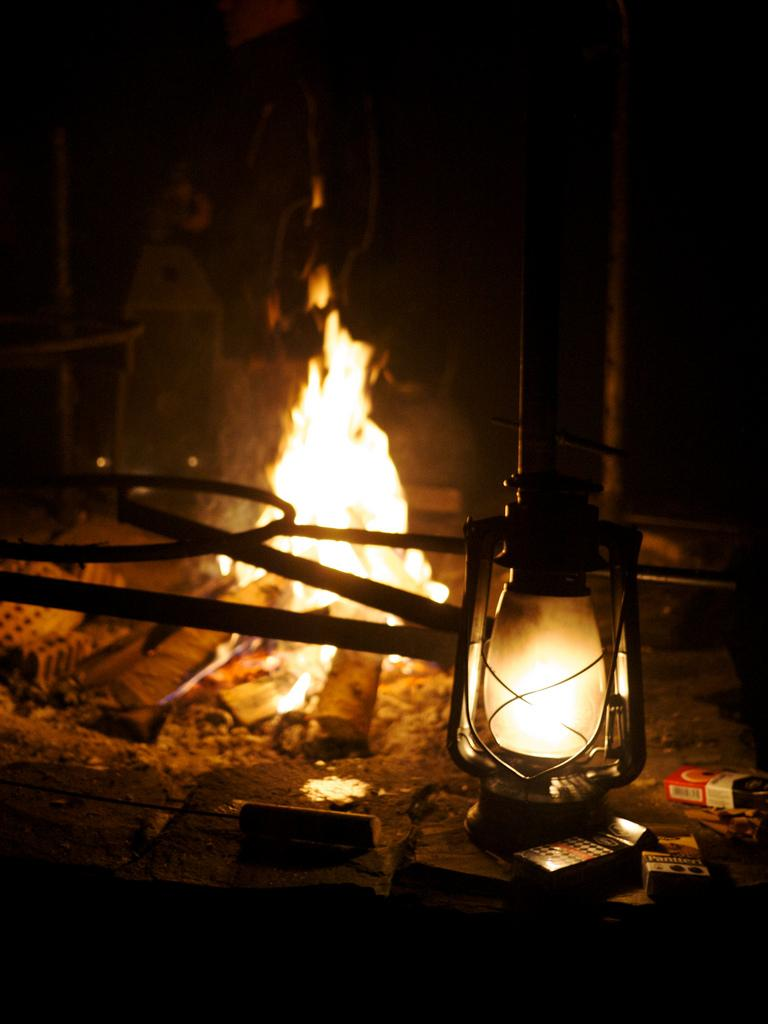fire: (285, 338, 385, 568)
